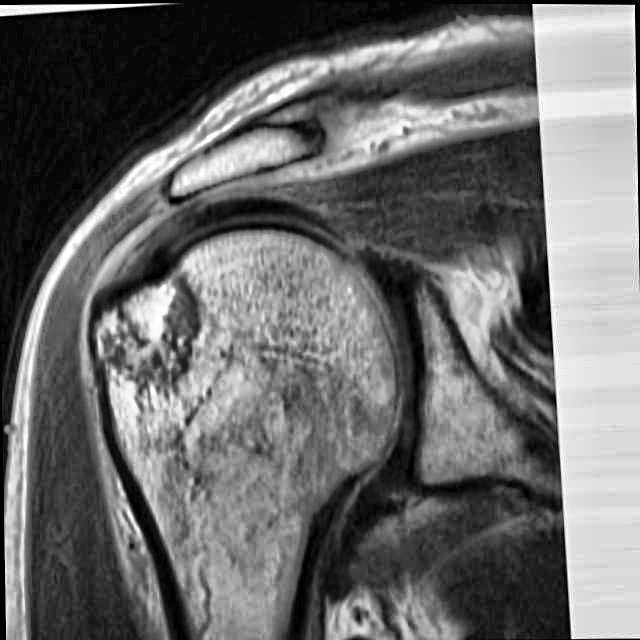Comminuted: (85, 259, 207, 380)
